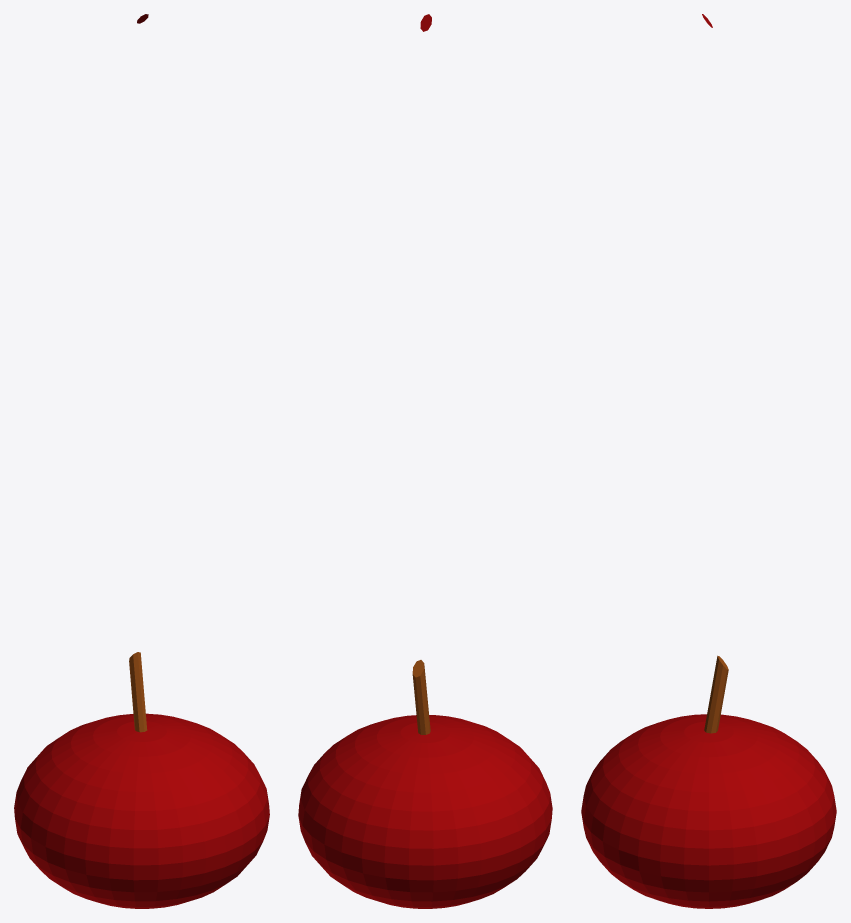
Rendered from tomato.obj.
3 views of the same model, side by side, from view 1: azimuth 30°, elevation 25°; view 2: azimuth 150°, elevation 25°; view 3: azimuth 270°, elevation 25° (orthographic).
Parts seen in each view (by area): view 1: Sphere.001; view 2: Sphere.001; view 3: Sphere.001.
Part boxes in pixels (x1,y1,x2,y2): Sphere.001: (14,14,269,908); Sphere.001: (298,14,552,908); Sphere.001: (581,14,836,908).
Size of the model in its own units: 0.3174 by 1.2 by 0.3174.
